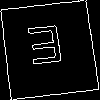E: (24, 25, 67, 74)
